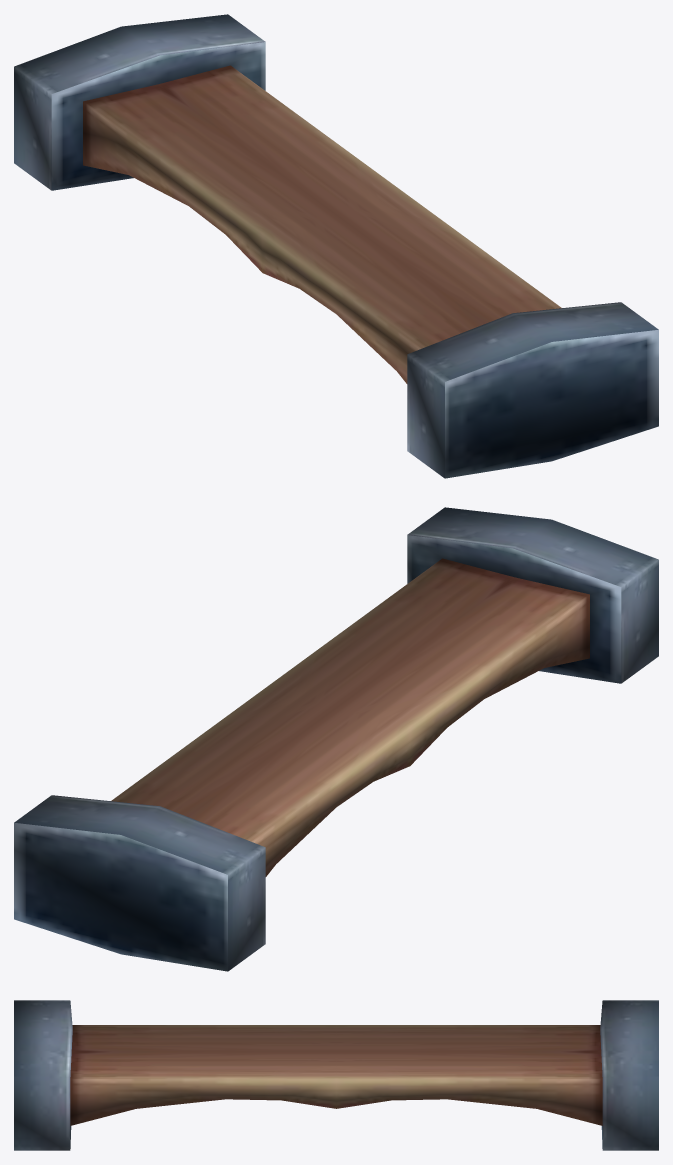
The picture shows the model from 3 angles, top to bottom: view 1: azimuth 30°, elevation 25°; view 2: azimuth 150°, elevation 25°; view 3: azimuth 270°, elevation 25°; orthographic projection. The views are drawn at different scales.
Bounding box in the file's own units: 0.8323 × 0.4435 × 2.9.
Materials: 1 (1 with a texture image).
